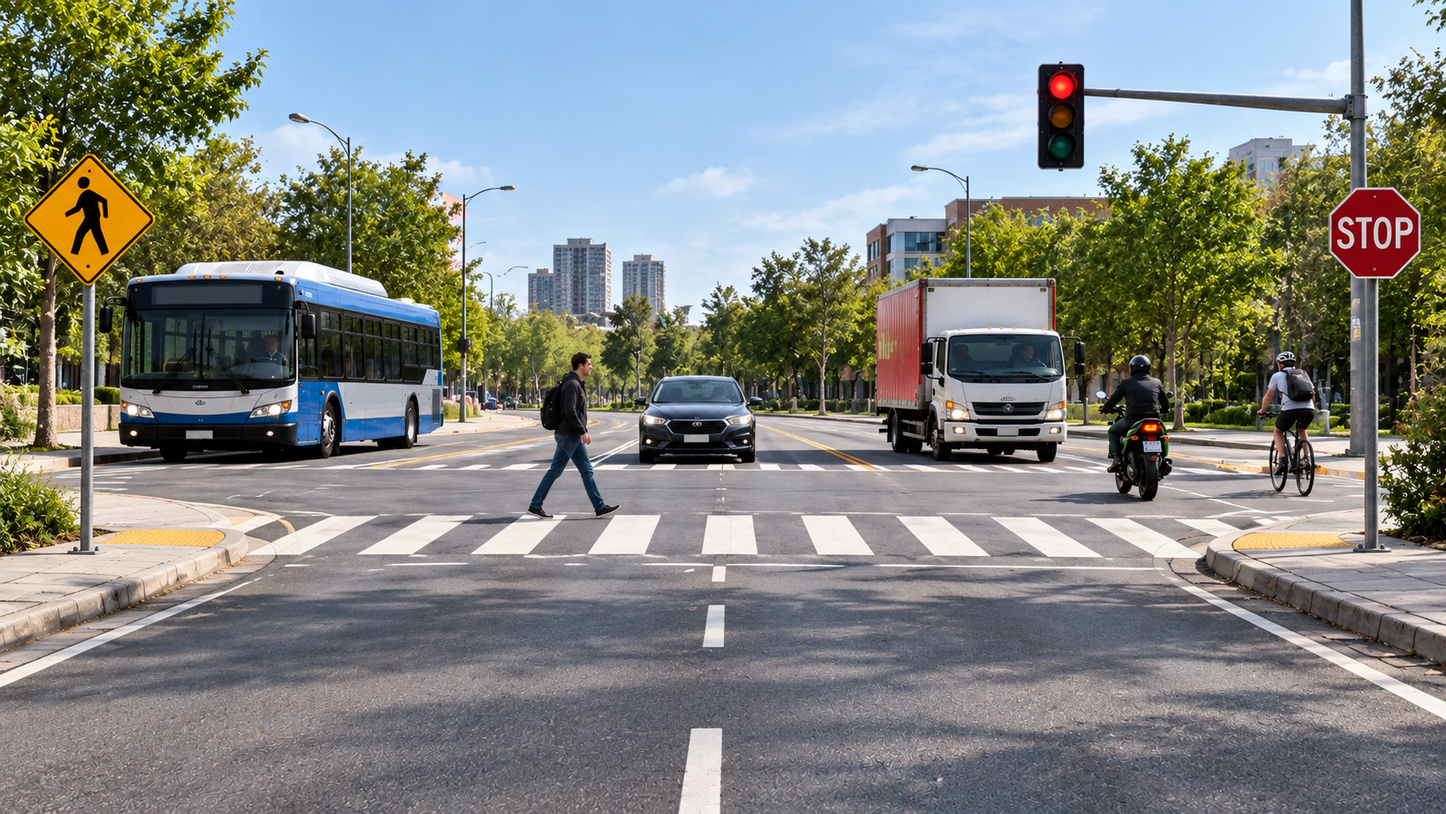bicycle: (1247, 413, 1329, 516)
bus: (106, 263, 451, 500)
car: (619, 372, 763, 485)
crossing_warning_sign: (22, 152, 157, 297)
motorcycle: (1033, 408, 1128, 519)
person: (496, 352, 617, 552), (1250, 355, 1324, 497), (1035, 356, 1125, 459)
stop_sign: (1324, 185, 1427, 284)
traffic_light: (1035, 53, 1088, 170)
truck: (810, 279, 996, 493)
zebra_crossing: (0, 510, 1445, 599)
